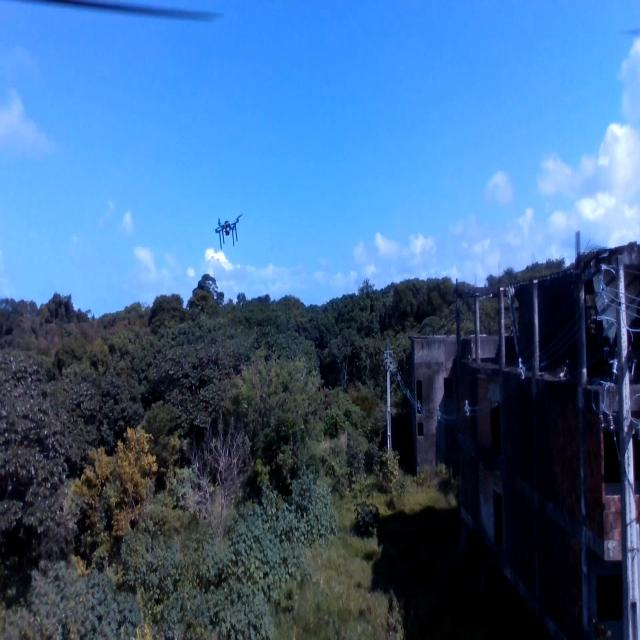-uav-: (211, 204, 247, 255)
